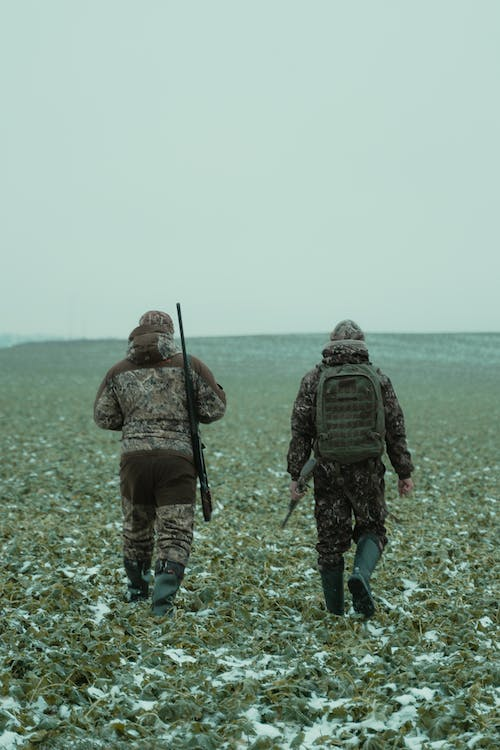gun: (171, 298, 217, 528), (277, 456, 318, 533)
